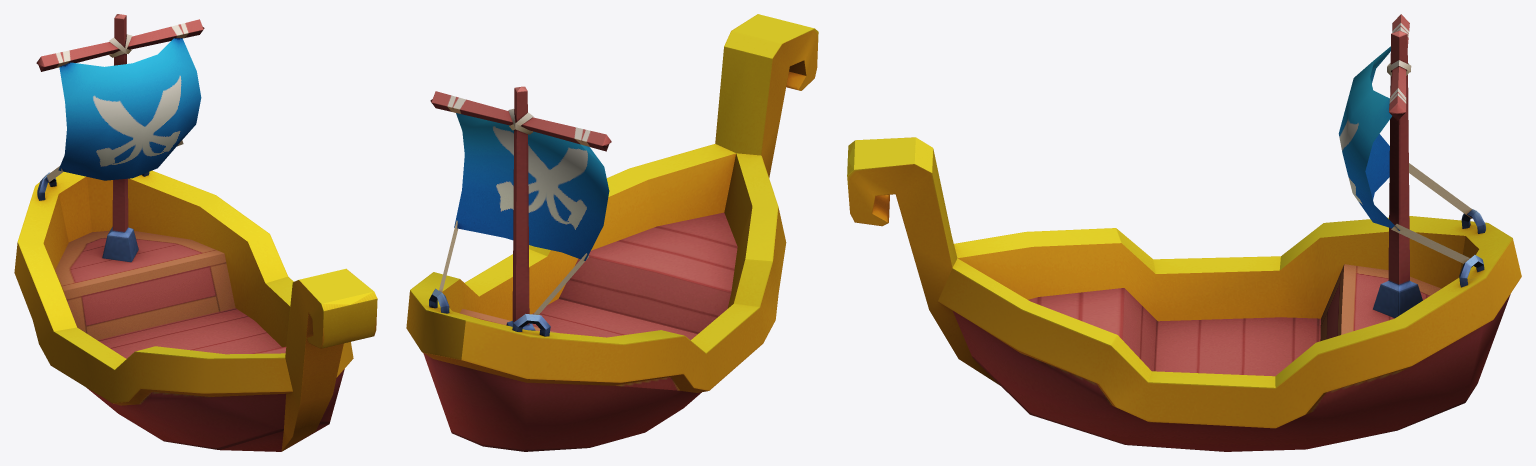
Rendered from chuan.FBX.
3 views of the same model, side by side, from view 1: azimuth 30°, elevation 25°; view 2: azimuth 150°, elevation 25°; view 3: azimuth 270°, elevation 25° (orthographic). The views are drawn at different scales.
Visible parts, largest first — view 1: 对象001; view 2: 对象001; view 3: 对象001.
Part boxes in pixels (x1,y1,x2,y2): 对象001: (14, 14, 377, 451); 对象001: (406, 14, 818, 451); 对象001: (847, 14, 1521, 451).
Size of the model in its own units: 184 by 255 by 388.
